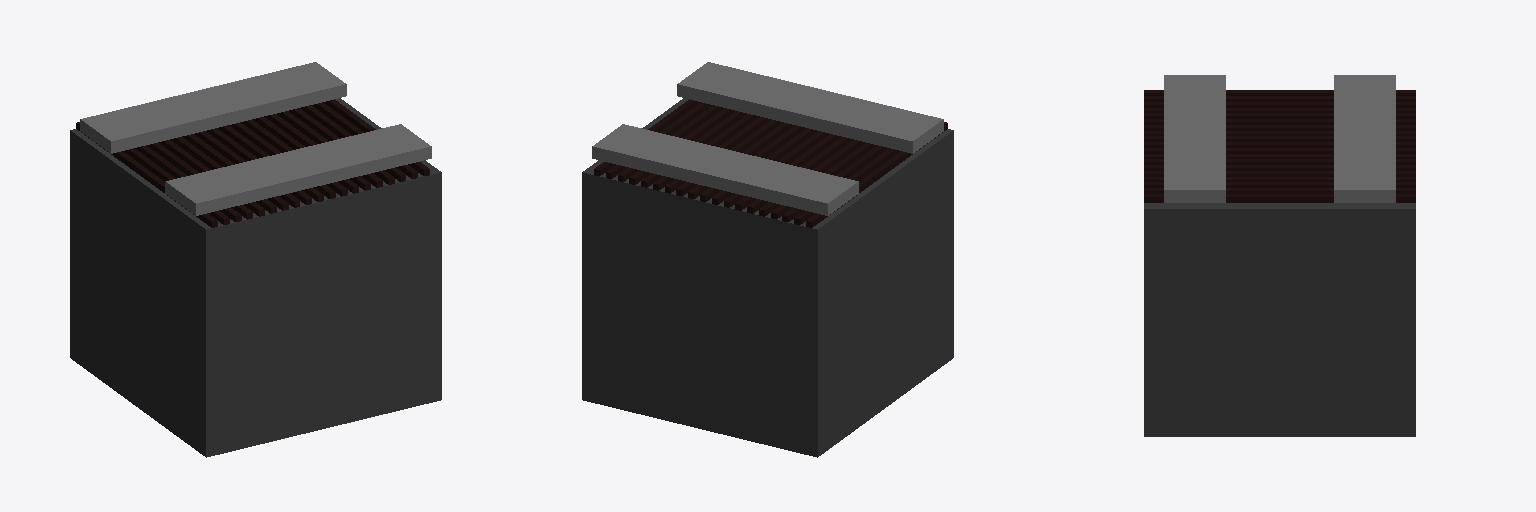
3 renders of one model, left to right at view 1: azimuth 30°, elevation 25°; view 2: azimuth 150°, elevation 25°; view 3: azimuth 270°, elevation 25°, orthographic.
Visible parts, largest first — view 1: object 1; view 2: object 1; view 3: object 1.
Part boxes in pixels (x1,y1,x2,y2): object 1: (70, 62, 441, 457); object 1: (582, 62, 953, 457); object 1: (1144, 75, 1415, 436).
Size of the model in its own units: 4 by 4 by 4.
Materials: 1 (1 with a texture image).